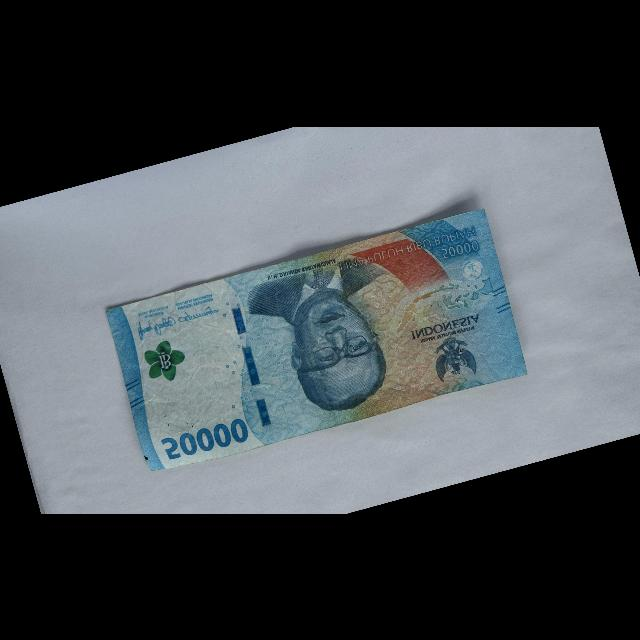Palsu-50k: (101, 204, 531, 479)
Tinta-Palsu-50k: (140, 335, 192, 387)
